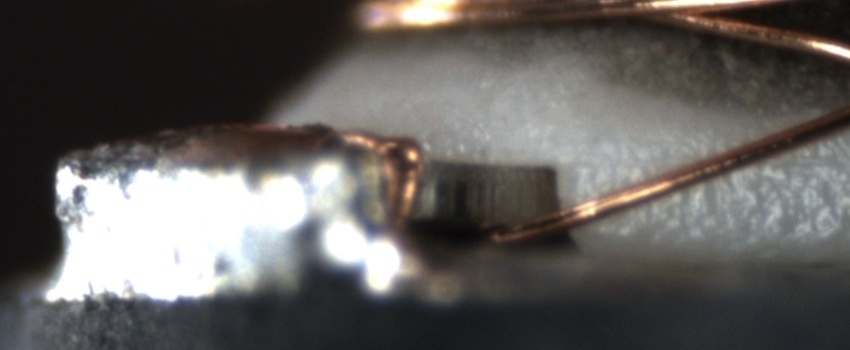DL: (573, 141, 849, 182)
TE: (328, 124, 430, 244)
